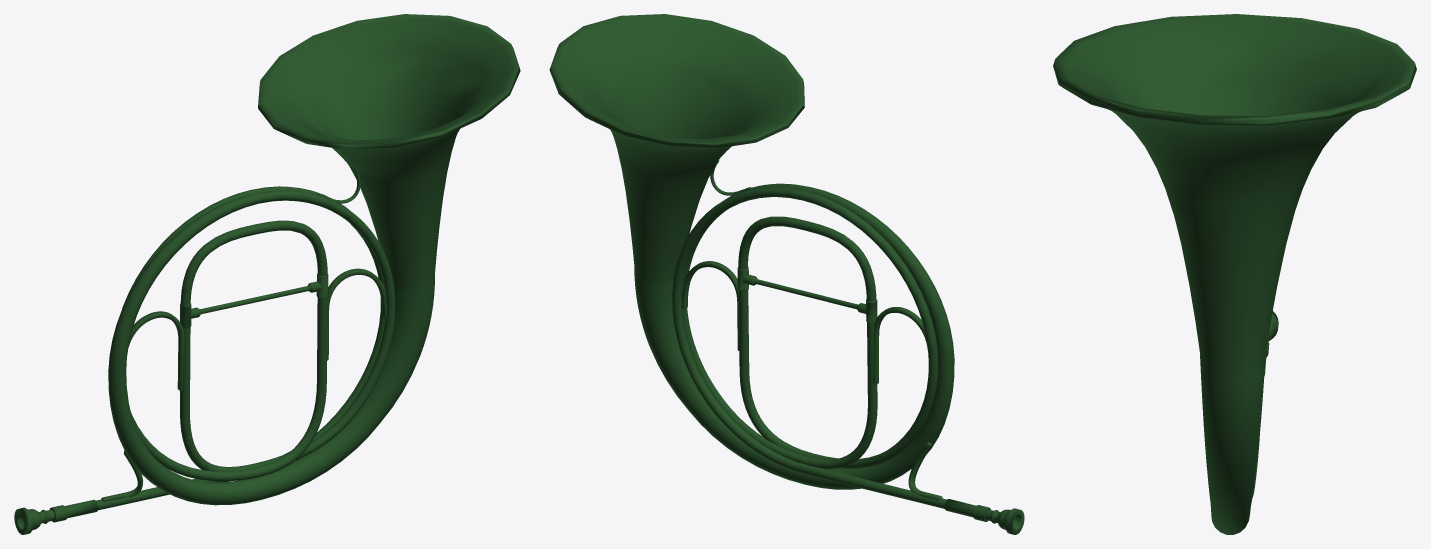
The model's file is Horn.glb.
3 views of the same model, side by side, from view 1: azimuth 30°, elevation 25°; view 2: azimuth 150°, elevation 25°; view 3: azimuth 270°, elevation 25° (orthographic). The views are drawn at different scales.
Parts seen in each view (by area): view 1: Horn_GLB; view 2: Horn_GLB; view 3: Horn_GLB.
Boxes of the visible parts, bbox=[...] form: Horn_GLB: bbox=[14, 14, 520, 534]; Horn_GLB: bbox=[549, 14, 1024, 534]; Horn_GLB: bbox=[1053, 14, 1416, 534].
Size of the model in its own units: 0.7358 by 0.6023 by 0.3588.
